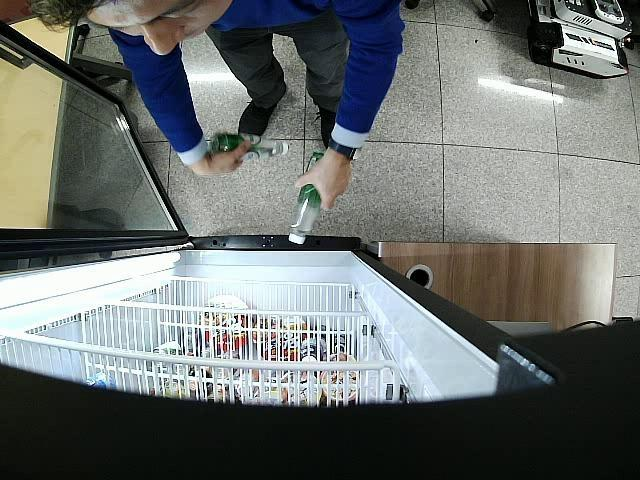18_trevi: (288, 153, 326, 245), (210, 131, 288, 157)
